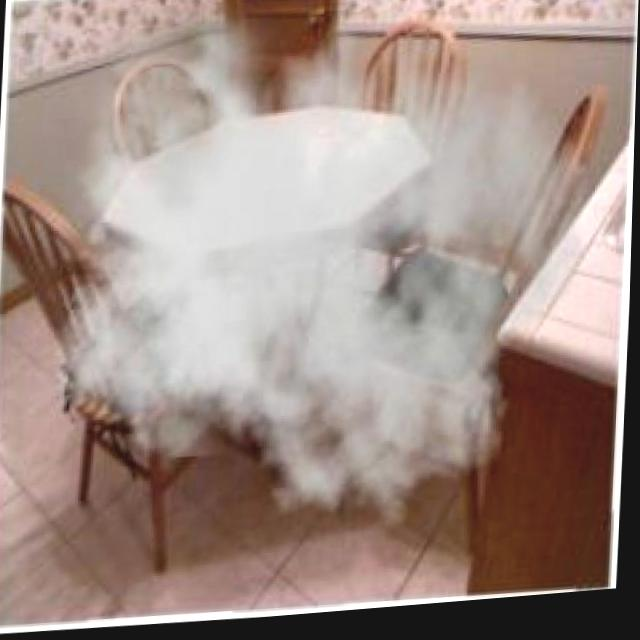Smoke: (30, 0, 600, 562)
